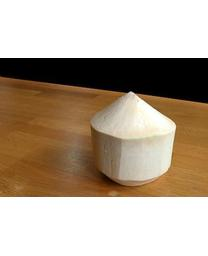coconut: (90, 92, 177, 188)
